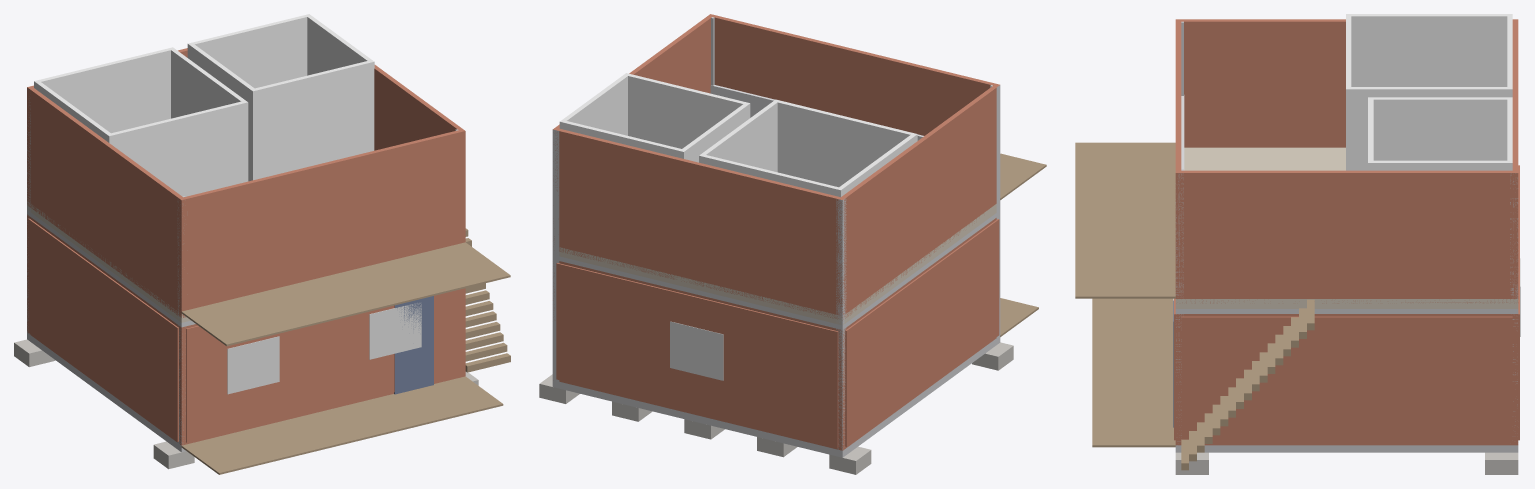
Rendered from Duplex-20-Base-BrickRed-LOD1.glb.
3 views of the same model, side by side, from view 1: azimuth 30°, elevation 25°; view 2: azimuth 150°, elevation 25°; view 3: azimuth 270°, elevation 25° (orthographic). The views are drawn at different scales.
Visible parts, largest first — view 1: ExteriorShellUpper, ExteriorPanelsStandard, StudyUpper, BedroomUpper, BalconyUpper, BalconyGround, WindowsStandard, StaircaseExternal, EntryDoor, ExteriorShell, FoundationBlocks, BaseFrame (+3 smaller); view 2: ExteriorShellUpper, ExteriorPanelsStandard, BedroomUpper, StudyUpper, VerticalStructure, FloorUpper, FoundationBlocks, BaseFrame, ExteriorShell, WindowsStandard, TopFrame, BalconyUpper (+2 smaller); view 3: ExteriorShellUpper, ExteriorPanelsStandard, BalconyUpper, BedroomUpper, BalconyGround, StudyUpper, FloorUpper, StaircaseExternal, ExteriorShell, BaseFrame, TopFrame, FoundationBlocks (+1 smaller).
Boxes of the visible parts, x1,y1,x2,y2 form: ExteriorShellUpper: (27,48,465,317); ExteriorPanelsStandard: (28,218,461,442); StudyUpper: (187,14,374,181); BedroomUpper: (34,47,248,196); BalconyUpper: (181,242,510,346); BalconyGround: (181,376,503,474); WindowsStandard: (227,303,421,394); StaircaseExternal: (465,228,510,372); EntryDoor: (394,296,433,394); ExteriorShell: (27,214,465,445); FoundationBlocks: (14,339,478,469); BaseFrame: (27,333,186,452); ExteriorShellUpper: (553,14,999,320); ExteriorPanelsStandard: (556,219,999,447); BedroomUpper: (699,99,917,197); StudyUpper: (559,73,750,162); VerticalStructure: (552,17,1000,449); FloorUpper: (553,204,996,325); FoundationBlocks: (539,342,1013,474); BaseFrame: (552,336,1000,457); ExteriorShell: (553,218,996,450); WindowsStandard: (670,321,723,380); TopFrame: (559,213,996,329); BalconyUpper: (1000,153,1046,199); ExteriorShellUpper: (1175,19,1518,303); ExteriorPanelsStandard: (1174,165,1519,443); BalconyUpper: (1075,142,1175,298); BedroomUpper: (1346,14,1512,170); BalconyGround: (1092,298,1175,447); StudyUpper: (1368,97,1512,170); FloorUpper: (1175,147,1518,308); StaircaseExternal: (1181,299,1314,470); ExteriorShell: (1175,314,1518,445); BaseFrame: (1175,445,1518,452); TopFrame: (1175,309,1518,313); FoundationBlocks: (1175,452,1518,474).
Size of the model in its own units: 7.94 by 6 by 8.
